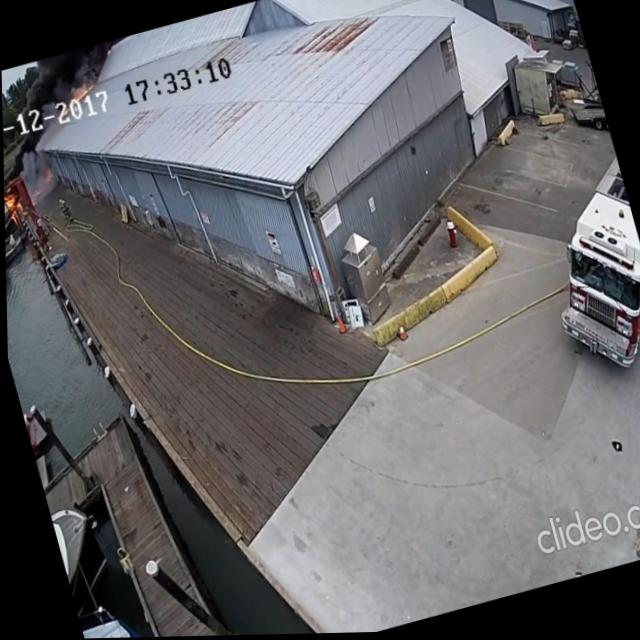fire: (3, 187, 30, 231), (62, 77, 96, 102), (39, 159, 55, 186)
